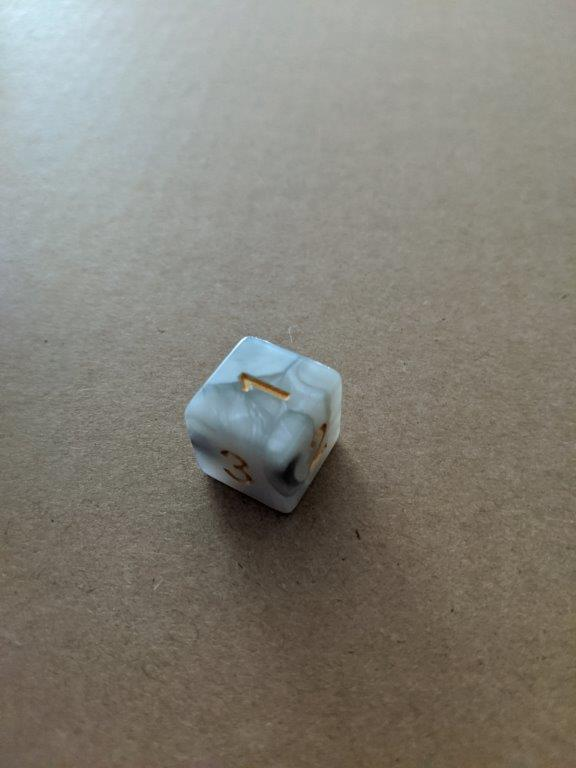d6-1: (184, 335, 343, 512)
